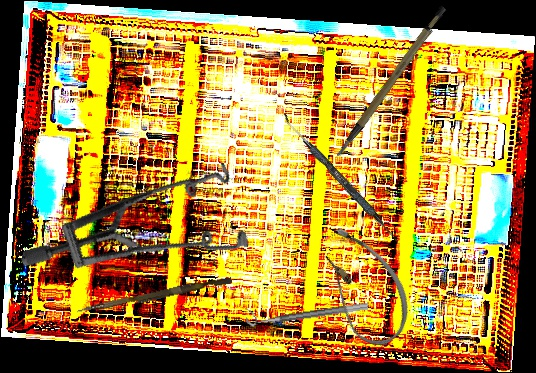Cannula: (297, 217, 427, 356)
Fixation Ring: (244, 291, 369, 328)
Pusher: (75, 273, 233, 319)
Scalpel Handle: (312, 3, 466, 159)
Spatula Surgical: (277, 113, 403, 243)
Speculum: (19, 111, 271, 333)
